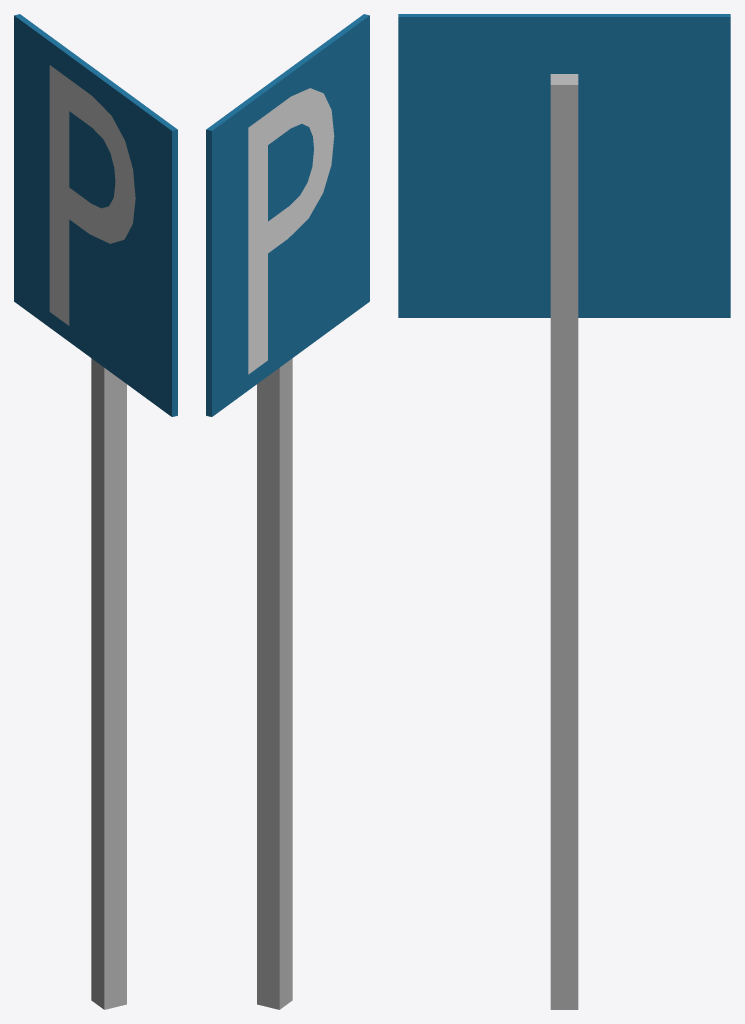
The model's file is parking_sign_01.fbx.
The picture shows the model from 3 angles, left to right: view 1: azimuth 30°, elevation 25°; view 2: azimuth 150°, elevation 25°; view 3: azimuth 270°, elevation 25°; orthographic projection. The views are drawn at different scales.
Visible parts, largest first — view 1: parking_sign_01; view 2: parking_sign_01; view 3: parking_sign_01.
Boxes of the visible parts, bbox=[...] form: parking_sign_01: bbox=[14, 14, 177, 1009]; parking_sign_01: bbox=[206, 14, 369, 1009]; parking_sign_01: bbox=[398, 14, 730, 1009].
Bounding box in the file's own units: 0.1123 × 3.61 × 1.11.
